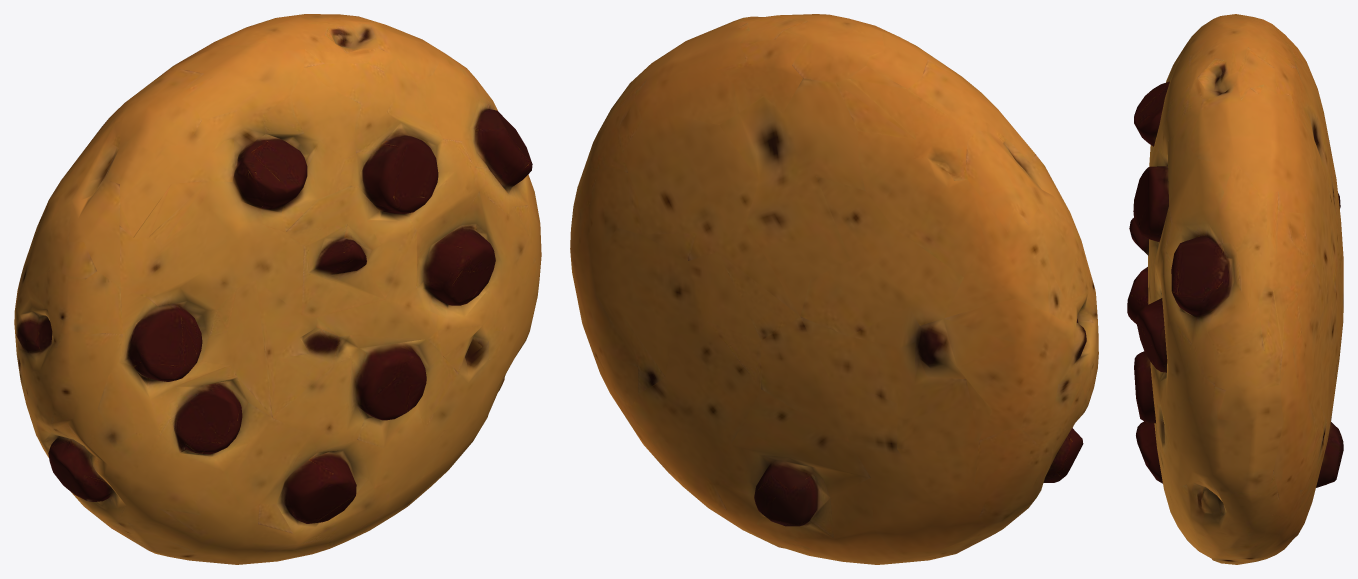
File: cookie.a5cea9cc.glb
The picture shows the model from 3 angles, left to right: view 1: azimuth 30°, elevation 25°; view 2: azimuth 150°, elevation 25°; view 3: azimuth 270°, elevation 25°; orthographic projection. The views are drawn at different scales.
Size of the model in its own units: 2 by 1.98 by 0.7766.
Materials: 1 (1 with a texture image).
